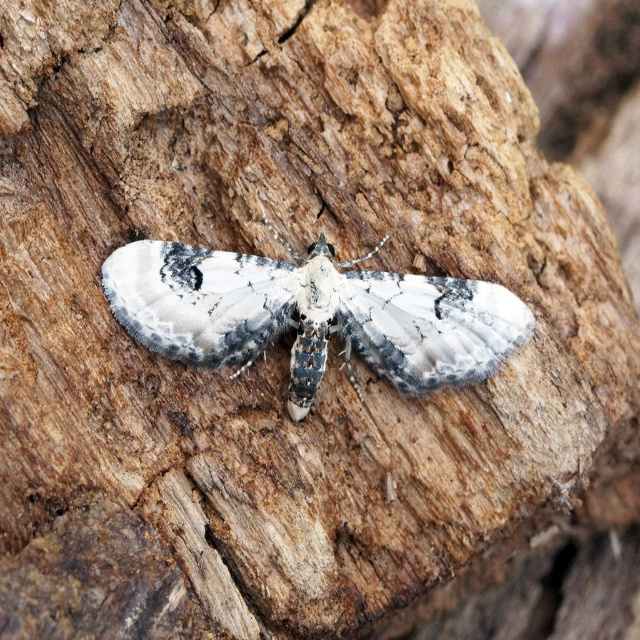Moths and butterflies: (98, 208, 543, 423)
